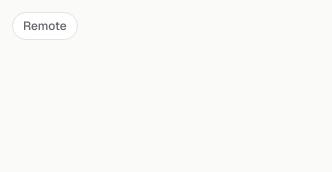
Test: ChipGroup › toggles with aria-pressed
The width and height of the screenshot is (332, 172).
Click the button "Remote" at (45, 26), box [12,12,78,40]
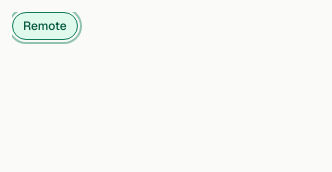
expect the button "Remote" is pressed: met, box [12,12,78,40]
